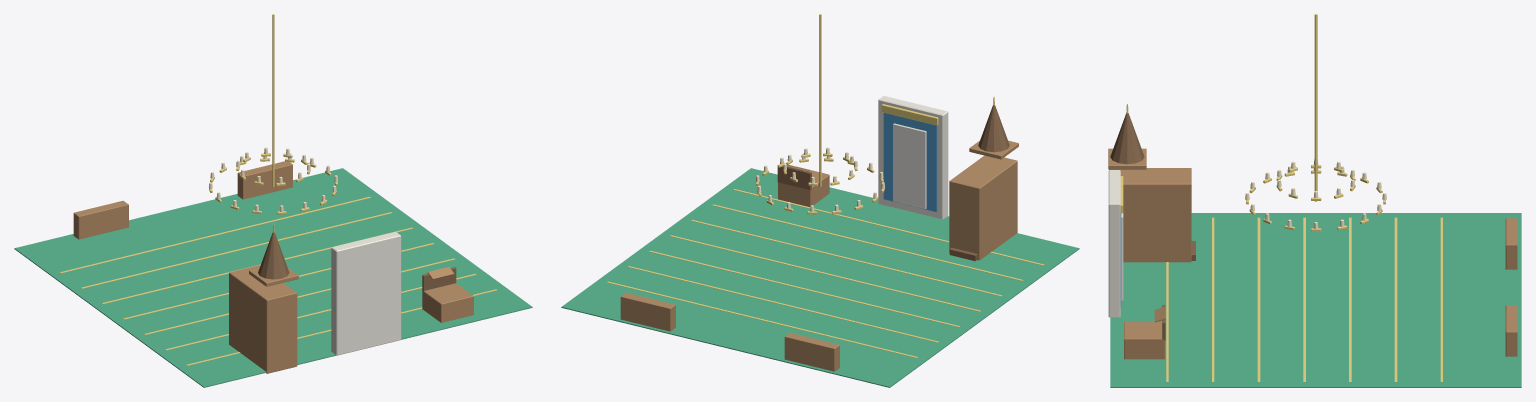
The model's file is Mosque_InteriorProps.fbx.
The picture shows the model from 3 angles, left to right: view 1: azimuth 30°, elevation 25°; view 2: azimuth 150°, elevation 25°; view 3: azimuth 270°, elevation 25°; orthographic projection. The views are drawn at different scales.
Visible parts, largest first — view 1: Mosque_InteriorProps; view 2: Mosque_InteriorProps; view 3: Mosque_InteriorProps.
Boxes of the visible parts, x1,y1,x2,y2 form: Mosque_InteriorProps: (14, 14, 532, 387); Mosque_InteriorProps: (561, 14, 1079, 387); Mosque_InteriorProps: (1108, 14, 1521, 387).
Bounding box in the file's own units: 14.4 × 11.1 × 14.47.
